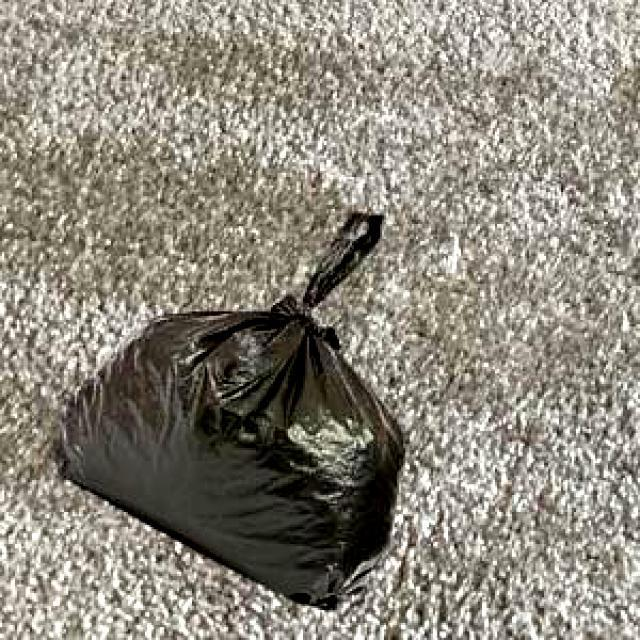Bolsa-de-nilon: (59, 210, 408, 614)
